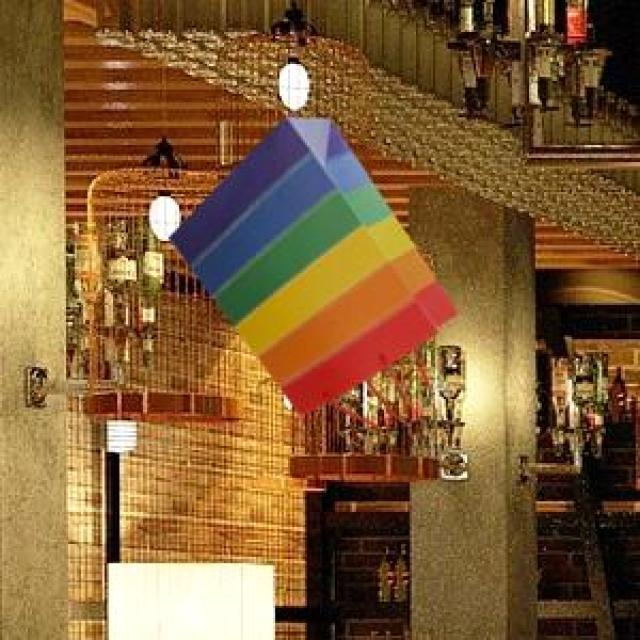Paper_Bag: (165, 114, 454, 413)
